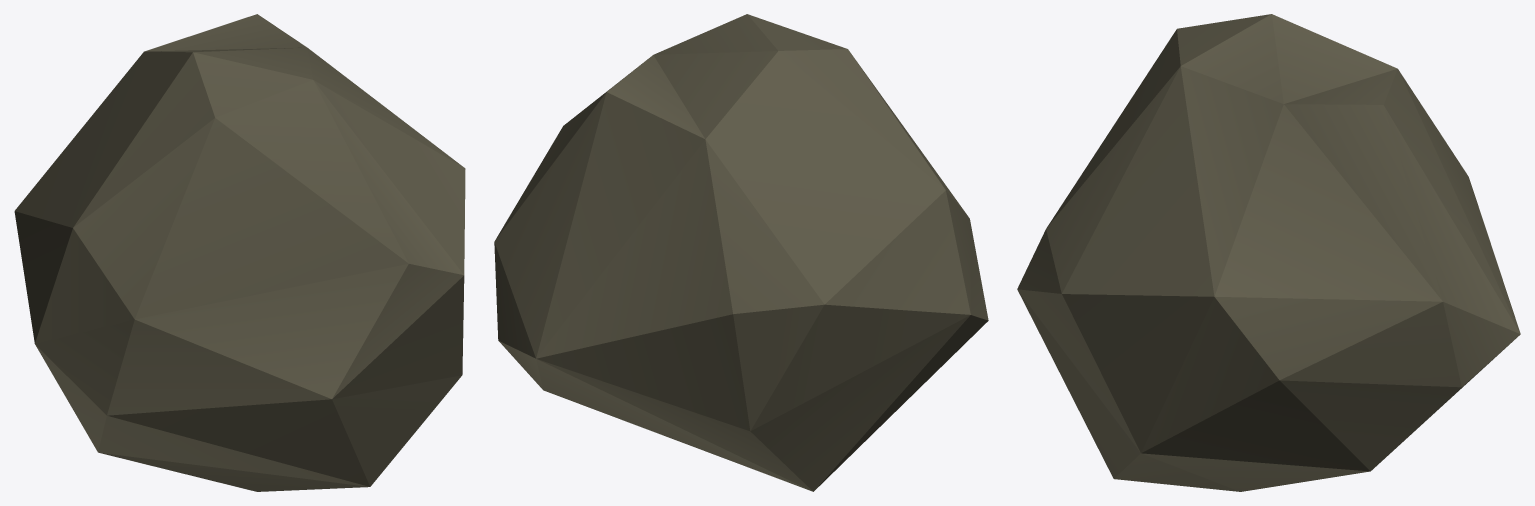
File: obj_boulder_LOW.FBX
3 renders of one model, left to right at view 1: azimuth 30°, elevation 25°; view 2: azimuth 150°, elevation 25°; view 3: azimuth 270°, elevation 25°, orthographic. The views are drawn at different scales.
Parts seen in each view (by area): view 1: obj_boulder_LOW; view 2: obj_boulder_LOW; view 3: obj_boulder_LOW.
Part boxes in pixels (x1,y1,x2,y2): obj_boulder_LOW: (14,14,465,491); obj_boulder_LOW: (494,14,988,491); obj_boulder_LOW: (1017,14,1520,491).
Size of the model in its own units: 2 by 1.94 by 1.96.
